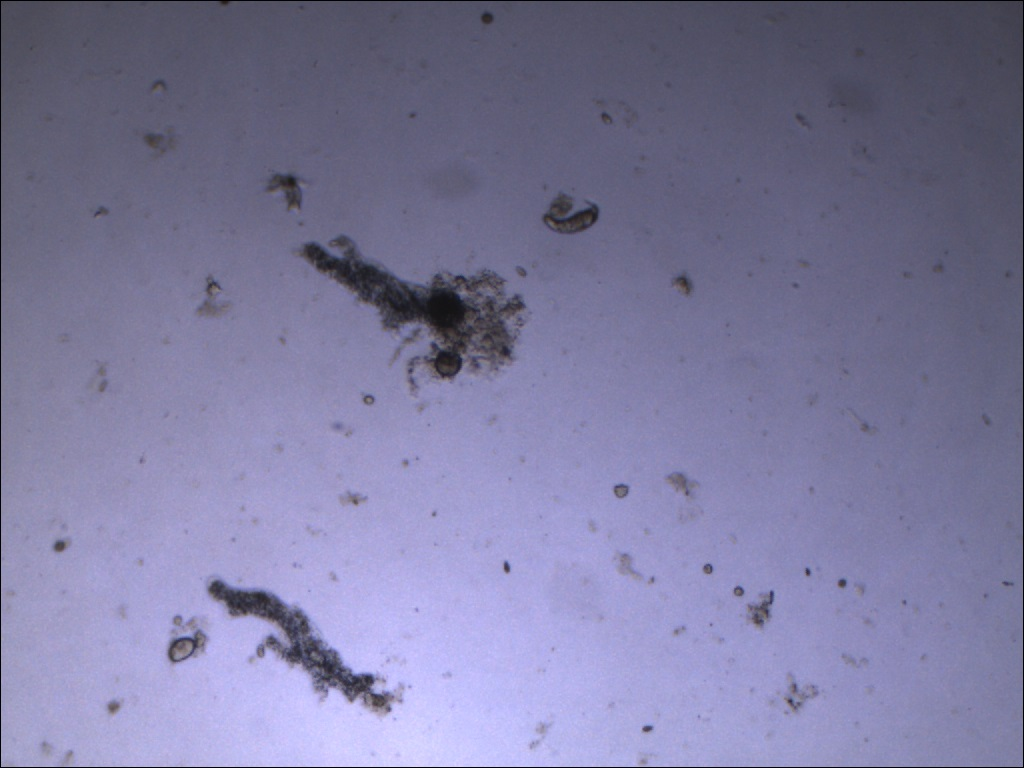amoeba: (197, 569, 395, 720), (290, 232, 477, 342)
